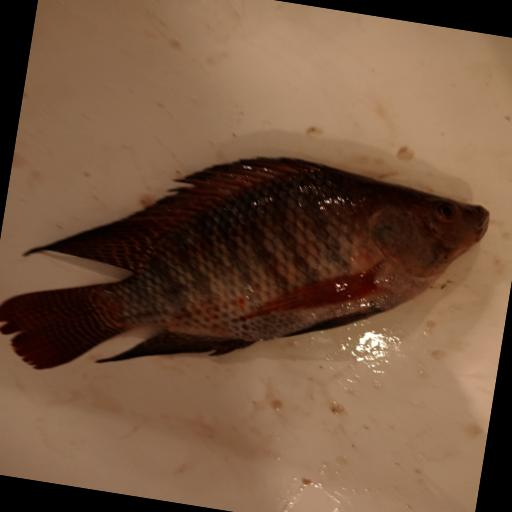Tilapia: (0, 114, 493, 437)
